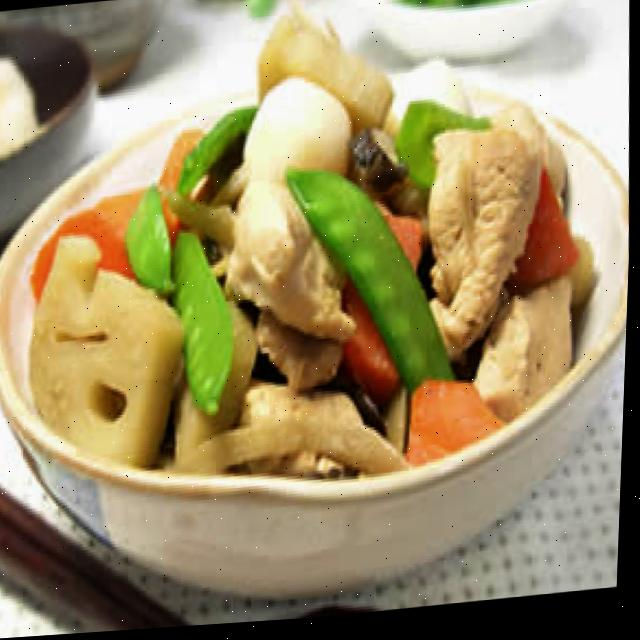鸡肉料理 含炸鸡: (18, 45, 594, 521)
